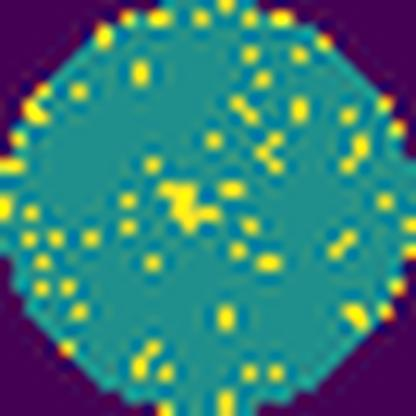Center: (153, 174, 230, 234)
